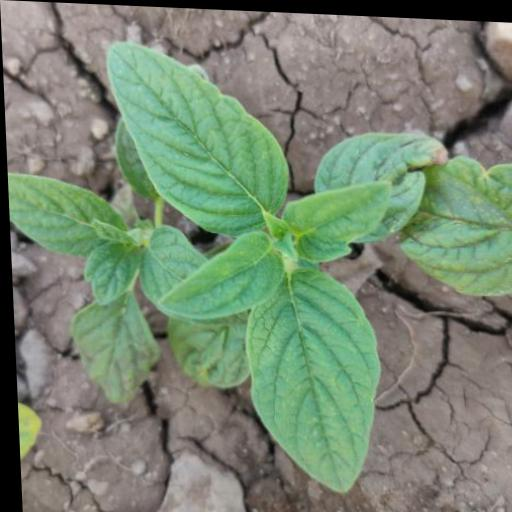crop: (11, 38, 512, 502)
